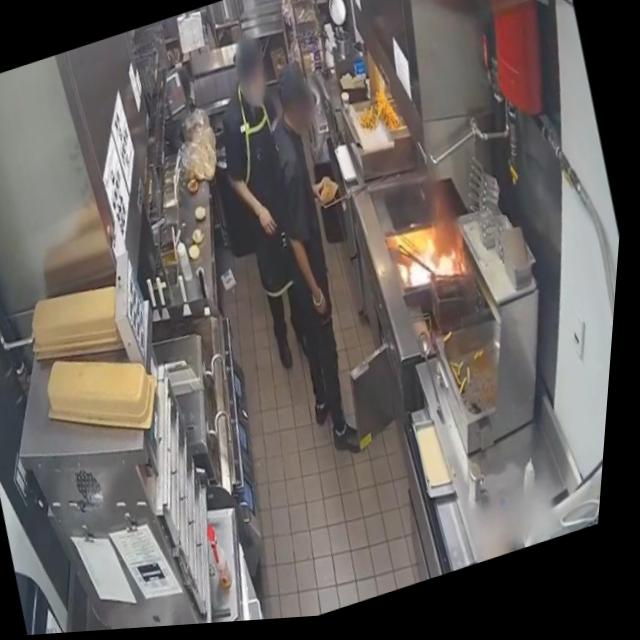fire: (399, 228, 472, 297)
